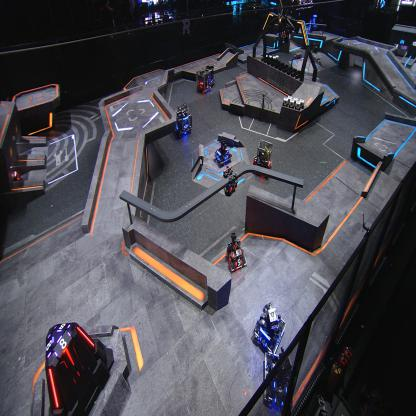car: (262, 347, 294, 408), (252, 300, 286, 355), (225, 231, 247, 273), (252, 139, 272, 177), (173, 104, 193, 138), (214, 138, 233, 166), (195, 66, 212, 92), (4, 166, 21, 186), (203, 65, 214, 86)
